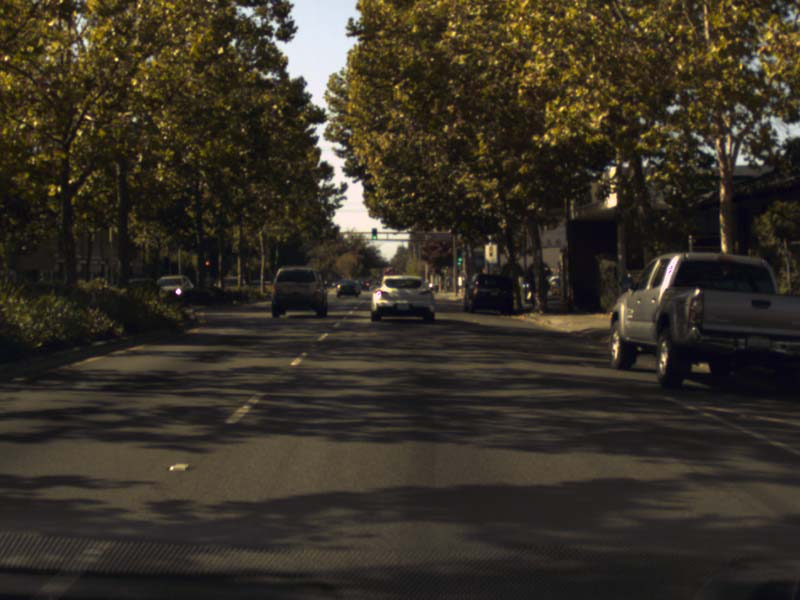Green: (456, 249, 462, 267), (371, 228, 376, 239)
Red: (204, 259, 209, 265)
